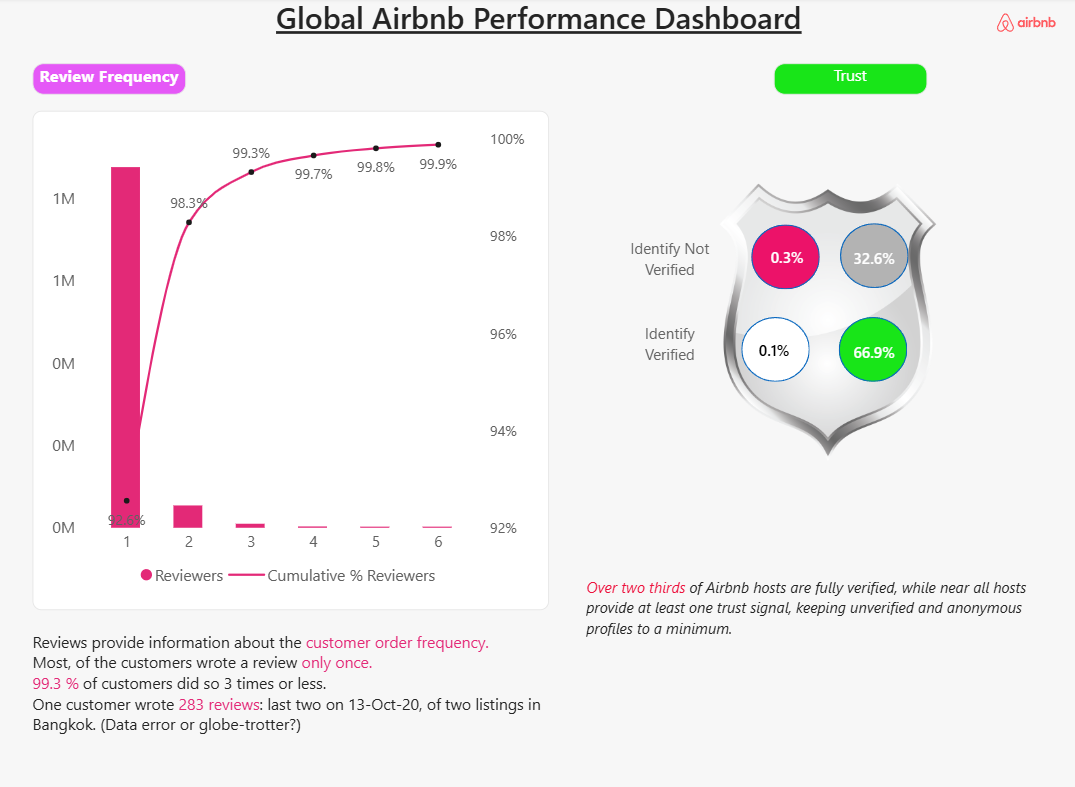

Layout of this report page (visuals, bound fields, positions):
{"tool":"powerbi","page":{"name":"Reviews","canvas":[960,720],"ordinal":2},"visuals":[{"type":"textbox","box":[223.9,0,512.2,48.9],"z":0},{"type":"image","box":[866.7,0,93.3,45.6],"z":1000},{"type":"lineStackedColumnComboChart","fields":{"Category":["Reviews.Reviews per Reviewer"],"Y":["Reviews.Reviewers"],"Y2":["Reviews.Cumulative % Reviewers"]},"box":[29,101.3,459.7,445.2],"z":2000},{"type":"textbox","box":[29,564.6,459.7,138.7],"z":3000},{"type":"textbox","box":[28.9,58.9,136.7,27.8],"z":4000},{"type":"image","box":[526,101.3,422.2,376.7],"z":5000},{"type":"shape","box":[746.8,284.7,61.1,57.8],"z":6000},{"type":"cardVisual","fields":{"Data":["Listings.Verified Profile %"]},"box":[756.4,296.8,43.3,34.4],"z":7000},{"type":"shape","box":[659.9,284.7,61.1,57.8],"z":8000},{"type":"shape","box":[748,201.5,61.1,57.8],"z":9000},{"type":"shape","box":[669.6,202.7,61.1,57.8],"z":10000},{"type":"cardVisual","fields":{"Data":["Listings.Verified_NoProfile %"]},"box":[668.4,295.6,43.3,34.4],"z":11000},{"type":"cardVisual","fields":{"Data":["Listings.NotVerified_Profile %"]},"box":[756.4,213.5,43.3,34.4],"z":12000},{"type":"cardVisual","fields":{"Data":["Listings.NotVerified_NoProfile %"]},"box":[679.2,212.3,44.4,34.4],"z":13000},{"type":"textbox","box":[552.5,213.5,88.9,41.1],"z":14000},{"type":"textbox","box":[552.5,289.5,88.9,41.1],"z":15000},{"type":"textbox","box":[688.9,59.1,136.7,27.8],"z":16000},{"type":"textbox","box":[522.4,515.2,429.5,62.7],"z":17000}]}

Visuals, with their boxes in screenshot pixels (x1, y1, x2, y2), scaled from the page's 960x720 canvas onto the 1075x787 screenshot:
textbox: Rect(251, 0, 824, 53)
image: Rect(971, 0, 1074, 50)
lineStackedColumnComboChart - Reviews.Reviews per Reviewer x Reviews.Reviewers: Rect(32, 111, 547, 597)
textbox: Rect(32, 617, 547, 769)
textbox: Rect(32, 64, 185, 95)
image: Rect(589, 111, 1062, 522)
shape: Rect(836, 311, 905, 374)
cardVisual - Listings.Verified Profile %: Rect(847, 324, 895, 362)
shape: Rect(739, 311, 807, 374)
shape: Rect(838, 220, 906, 283)
shape: Rect(750, 222, 818, 285)
cardVisual - Listings.Verified_NoProfile %: Rect(748, 323, 797, 361)
cardVisual - Listings.NotVerified_Profile %: Rect(847, 233, 895, 271)
cardVisual - Listings.NotVerified_NoProfile %: Rect(761, 232, 810, 270)
textbox: Rect(619, 233, 718, 278)
textbox: Rect(619, 316, 718, 361)
textbox: Rect(771, 65, 924, 95)
textbox: Rect(585, 563, 1066, 632)
